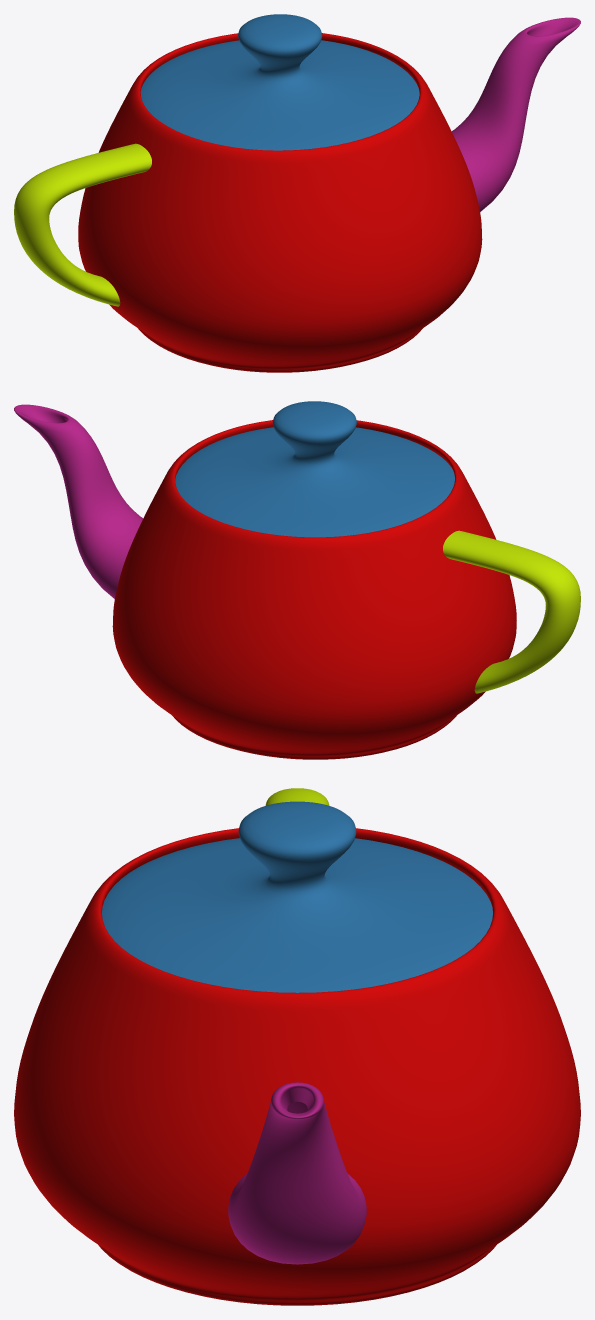
Rendered from teapotMaterial.dae.
The picture shows the model from 3 angles, top to bottom: view 1: azimuth 30°, elevation 25°; view 2: azimuth 150°, elevation 25°; view 3: azimuth 270°, elevation 25°; orthographic projection. The views are drawn at different scales.
Visible parts, largest first — view 1: body, top, lid, handle; view 2: body, top, lid, handle; view 3: body, top, lid, handle.
Part boxes in pixels (box(x1,y1,x2,y2)): body: box(78, 33, 482, 372); top: box(140, 14, 419, 150); lid: box(451, 17, 580, 211); handle: box(14, 143, 151, 306); body: box(112, 420, 516, 759); top: box(175, 401, 454, 537); lid: box(14, 404, 143, 598); handle: box(443, 530, 580, 693); body: box(14, 828, 580, 1305); top: box(102, 801, 492, 992); lid: box(228, 1082, 366, 1264); handle: box(265, 788, 329, 805).
Size of what is drawn, in the model's own units: 120 by 74.36 by 59.63.
